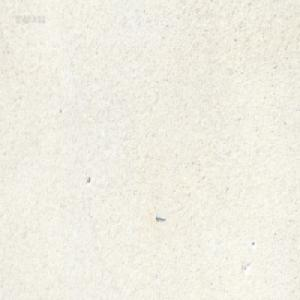Nail: (155, 215, 165, 222)
